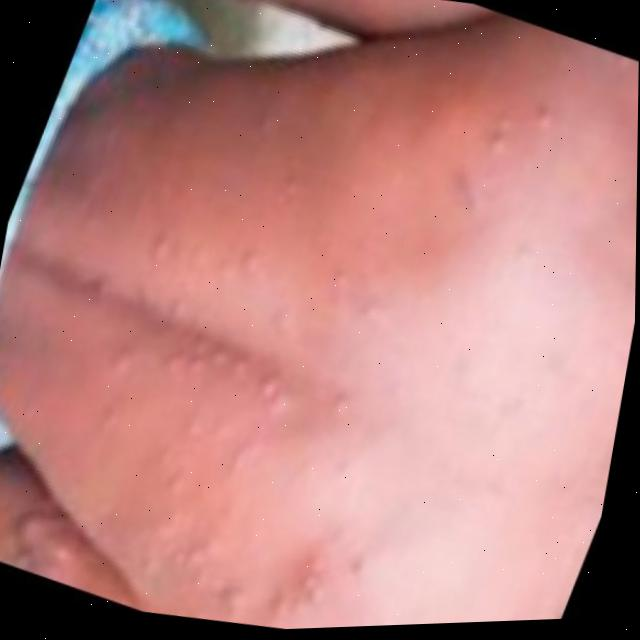Eczema: (58, 21, 593, 638)
